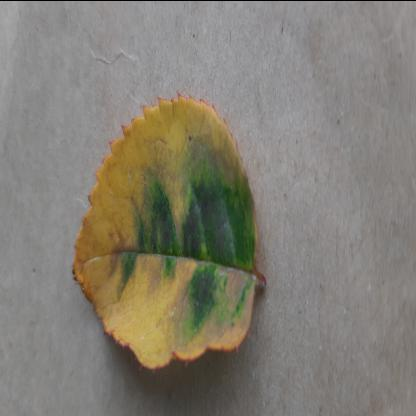black-spot: (72, 89, 258, 380)
